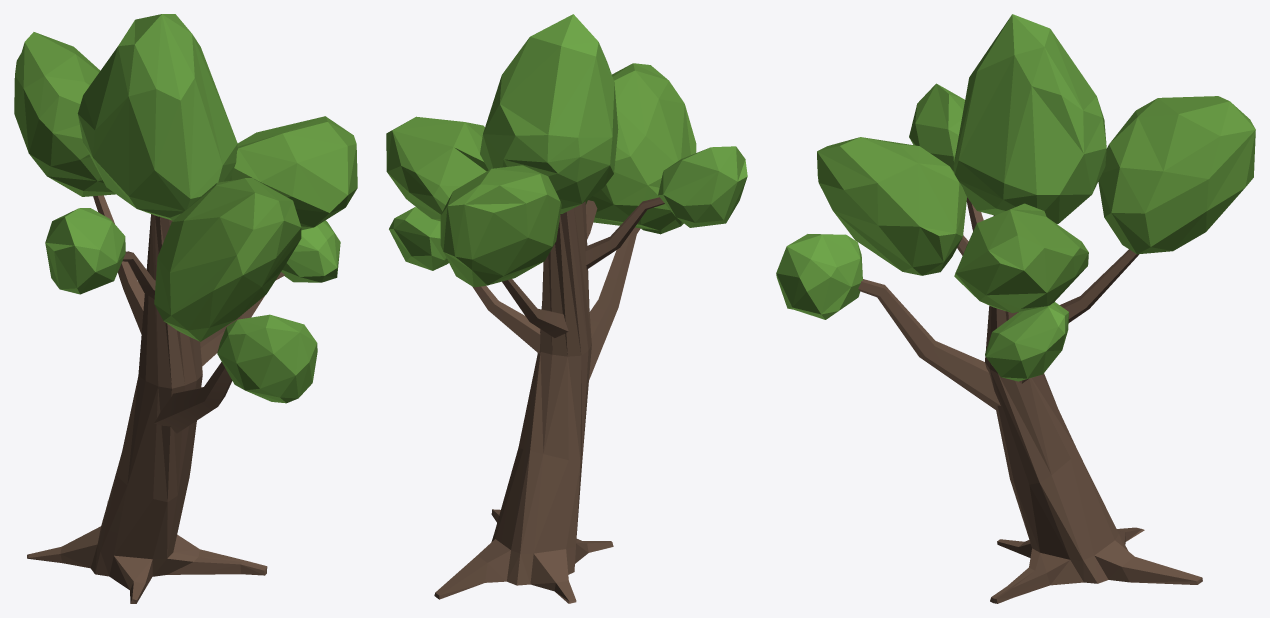
File: tree4a.glb
The picture shows the model from 3 angles, left to right: view 1: azimuth 30°, elevation 25°; view 2: azimuth 150°, elevation 25°; view 3: azimuth 270°, elevation 25°; orthographic projection. The views are drawn at different scales.
Visible parts, largest first — view 1: tree_0099; view 2: tree_0099; view 3: tree_0099.
Boxes of the visible parts, bbox=[...] form: tree_0099: bbox=[14, 14, 357, 603]; tree_0099: bbox=[386, 14, 747, 603]; tree_0099: bbox=[776, 14, 1255, 603].
Size of the model in its own units: 1.6 by 2.53 by 2.02.
